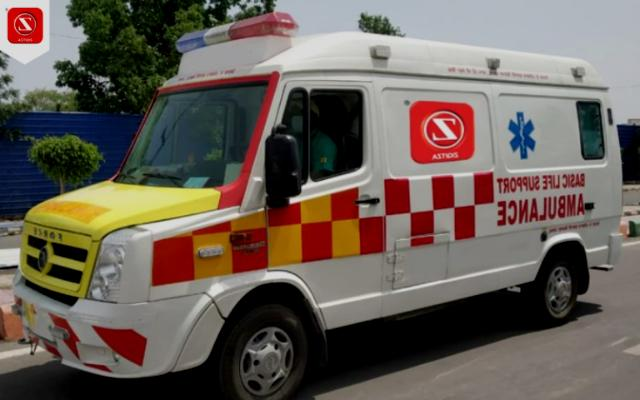ambulance: (15, 12, 621, 398)
